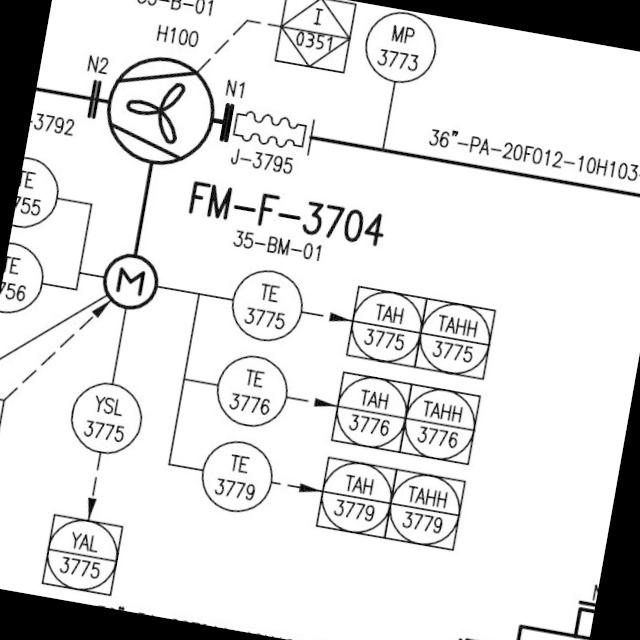EJ: (220, 102, 320, 158)
F: (94, 43, 226, 176)
M: (96, 246, 164, 316)
